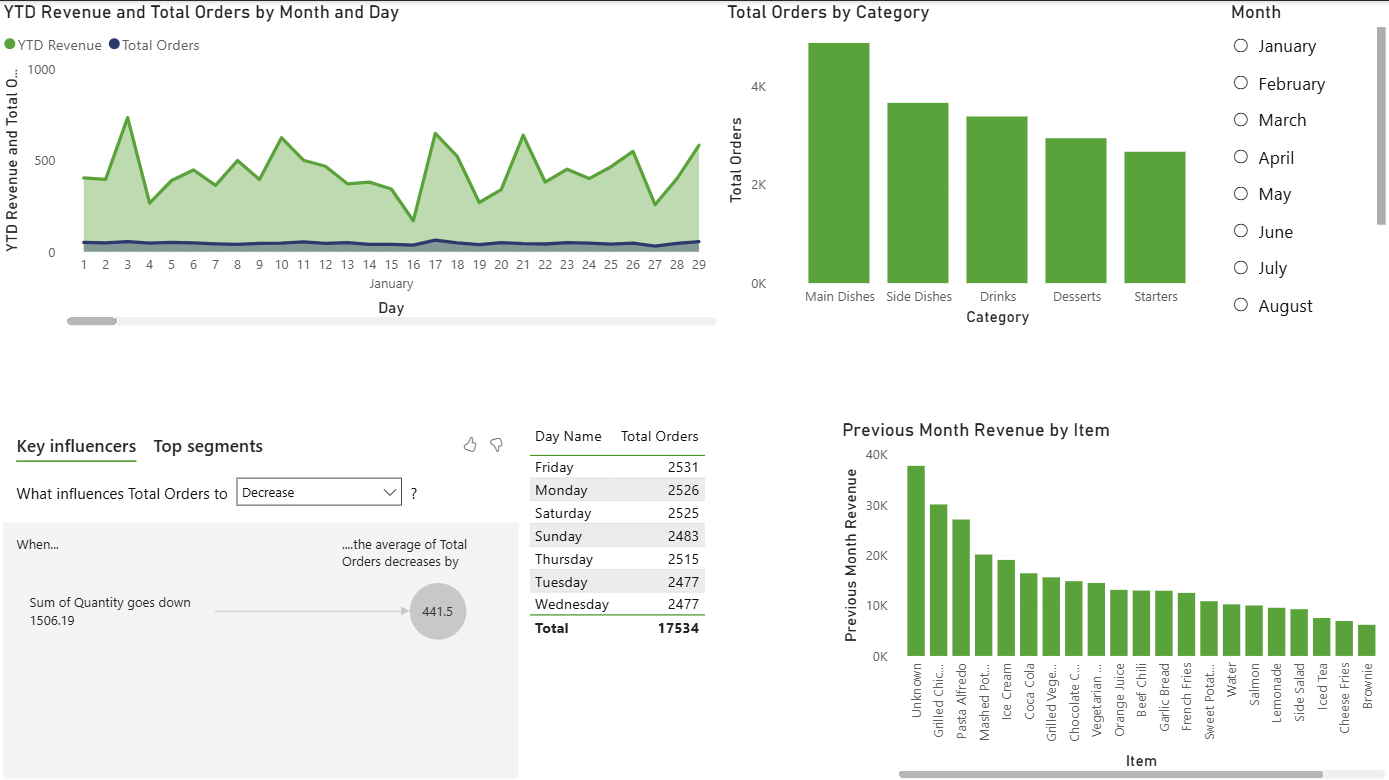

This screenshot's page, from the dashboard's own definition file:
{"tool":"powerbi","page":{"name":"Page 3","canvas":[1280,720],"ordinal":2},"visuals":[{"type":"areaChart","fields":{"Y":["FactSales.YTD Revenue","FactSales.Total Orders"],"Category":["DimOrder.Order Date.Variation.Date Hierarchy.Month","DimOrder.Order Date.Variation.Date Hierarchy.Day"]},"box":[0,0,665.5,303.3],"z":0},{"type":"listSlicer","fields":{"Values":["DimOrder.Order Date.Variation.Date Hierarchy.Month"]},"box":[1128,0,152.3,303.3],"z":1},{"type":"columnChart","fields":{"Category":["FactSales.Category"],"Y":["FactSales.Total Orders"]},"box":[665.5,0,462.4,303.3],"z":2},{"type":"keyDriversVisual","fields":{"Target":["FactSales.Total Orders"],"ExplainBy":["FactSales.Item","Sum(FactSales.Quantity)"]},"box":[0,384.2,483,336.2],"z":3},{"type":"clusteredColumnChart","fields":{"Y":["FactSales.Previous Month Revenue"],"Category":["FactSales.Item"]},"box":[771.2,384.2,509.1,336.2],"z":4},{"type":"tableEx","fields":{"Values":["FactSales.Day Name","FactSales.Total Orders"]},"box":[483,384.2,288.2,336.2],"z":5}]}

Visuals, with their boxes in screenshot pixels (x1, y1, x2, y2), scaled from the page's 1280x720 canvas onto the 1389x780 screenshot:
areaChart - FactSales.YTD Revenue x FactSales.Total Orders: bbox=[0, 0, 722, 329]
listSlicer - DimOrder.Order Date.Variation.Date Hierarchy.Month: bbox=[1224, 0, 1388, 329]
columnChart - FactSales.Category x FactSales.Total Orders: bbox=[722, 0, 1224, 329]
keyDriversVisual - FactSales.Total Orders x FactSales.Item: bbox=[0, 416, 524, 779]
clusteredColumnChart - FactSales.Previous Month Revenue x FactSales.Item: bbox=[837, 416, 1388, 779]
tableEx - FactSales.Day Name x FactSales.Total Orders: bbox=[524, 416, 837, 779]
